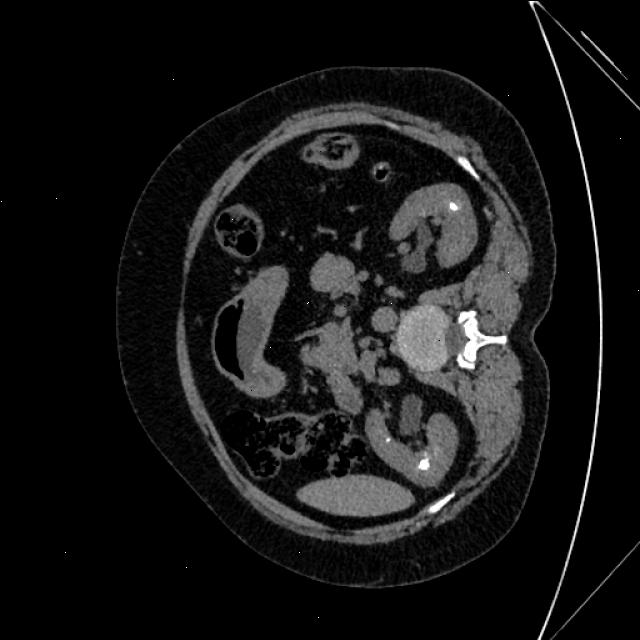kidneystone: (418, 456, 429, 469), (449, 202, 459, 211), (384, 435, 391, 442)
